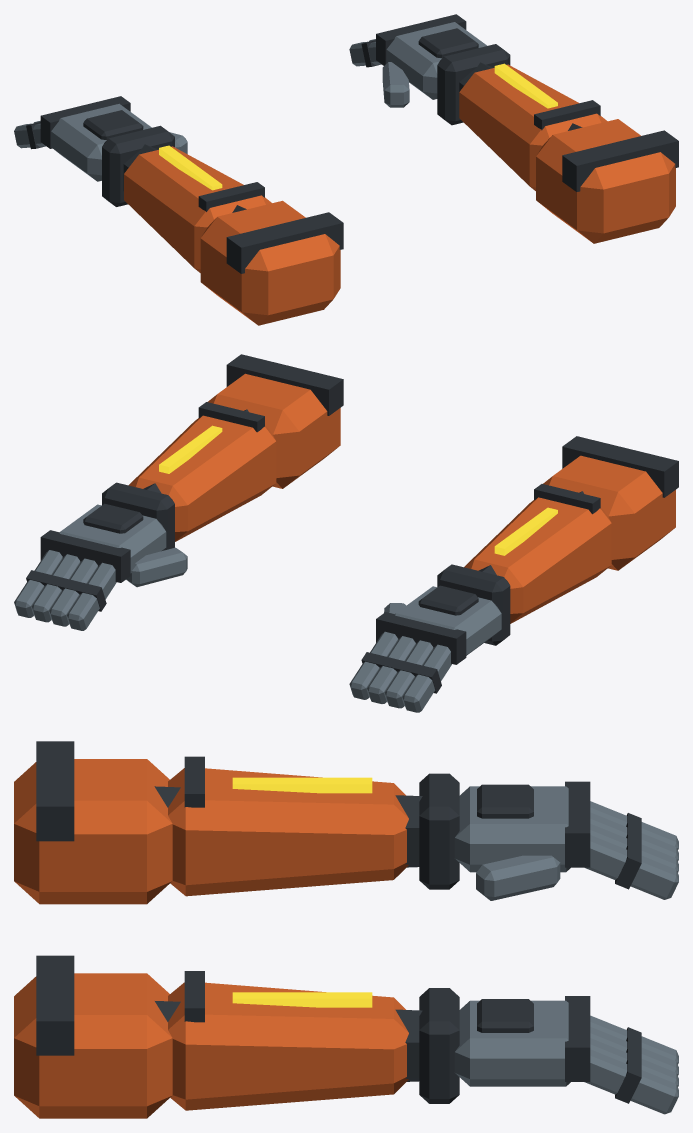
Rendered from FP_Arms_Robot.fbx.
3 views of the same model, one above another, from view 1: azimuth 30°, elevation 25°; view 2: azimuth 150°, elevation 25°; view 3: azimuth 270°, elevation 25° (orthographic). The views are drawn at different scales.
Visible parts, largest first — view 1: Plate_Elbow.L, Plate_Elbow.R, Plate_Forearm.R, Plate_Forearm.L, Plate_Hand.L, Plate_Hand.R, Plate_Cuff.R, Plate_Cuff.L, Plate_Thumb.R, Plate_Fingers.L, Plate_Fingers.R; view 2: Plate_Forearm.R, Plate_Forearm.L, Plate_Elbow.R, Plate_Elbow.L, Plate_Hand.L, Plate_Fingers.L, Plate_Fingers.R, Plate_Hand.R, Plate_Cuff.L, Plate_Cuff.R, Plate_Thumb.R; view 3: Plate_Forearm.L, Plate_Forearm.R, Plate_Elbow.L, Plate_Elbow.R, Plate_Hand.R, Plate_Hand.L, Plate_Fingers.L, Plate_Fingers.R, Plate_Cuff.L, Plate_Cuff.R, Plate_Thumb.L, Arm.L (+1 smaller).
Part boxes in pixels (x1=…): Plate_Elbow.L: x1=200, y1=200, x2=343, y2=325; Plate_Elbow.R: x1=536, y1=119, x2=678, y2=243; Plate_Forearm.R: x1=459, y1=63, x2=607, y2=190; Plate_Forearm.L: x1=124, y1=145, x2=271, y2=272; Plate_Hand.L: x1=40, y1=96, x2=151, y2=181; Plate_Hand.R: x1=376, y1=14, x2=487, y2=99; Plate_Cuff.R: x1=437, y1=44, x2=510, y2=125; Plate_Cuff.L: x1=102, y1=125, x2=174, y2=206; Plate_Thumb.R: x1=382, y1=62, x2=409, y2=107; Plate_Fingers.L: x1=14, y1=120, x2=45, y2=149; Plate_Fingers.R: x1=349, y1=39, x2=381, y2=67; Plate_Forearm.R: x1=128, y1=402, x2=276, y2=541; Plate_Forearm.L: x1=464, y1=484, x2=611, y2=623; Plate_Elbow.R: x1=208, y1=354, x2=343, y2=488; Plate_Elbow.L: x1=543, y1=436, x2=678, y2=570; Plate_Hand.L: x1=376, y1=585, x2=501, y2=664; Plate_Fingers.L: x1=349, y1=631, x2=451, y2=712; Plate_Fingers.R: x1=14, y1=550, x2=116, y2=630; Plate_Hand.R: x1=40, y1=503, x2=166, y2=582; Plate_Cuff.L: x1=437, y1=564, x2=510, y2=645; Plate_Cuff.R: x1=102, y1=482, x2=174, y2=550; Plate_Thumb.R: x1=126, y1=547, x2=187, y2=587; Plate_Forearm.L: x1=168, y1=756, x2=408, y2=896; Plate_Forearm.R: x1=168, y1=971, x2=408, y2=1110; Plate_Elbow.L: x1=14, y1=741, x2=172, y2=904; Plate_Elbow.R: x1=14, y1=955, x2=172, y2=1118; Plate_Hand.R: x1=454, y1=996, x2=590, y2=1086; Plate_Hand.L: x1=454, y1=781, x2=590, y2=872; Plate_Fingers.L: x1=585, y1=801, x2=678, y2=899; Plate_Fingers.R: x1=584, y1=1015, x2=678, y2=1114; Plate_Cuff.L: x1=419, y1=773, x2=459, y2=889; Plate_Cuff.R: x1=419, y1=988, x2=459, y2=1103; Plate_Thumb.L: x1=476, y1=855, x2=560, y2=900; Arm.L: x1=154, y1=786, x2=422, y2=867.
Size of the model in its own units: 0.522 by 0.5244 by 0.095.
